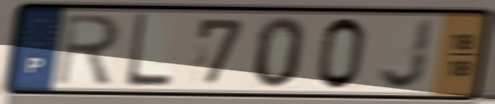0: (252, 14, 308, 92), (314, 15, 368, 91)
7: (196, 16, 244, 87)
J: (376, 17, 437, 92)
L: (122, 12, 173, 90)
R: (54, 11, 124, 87)
